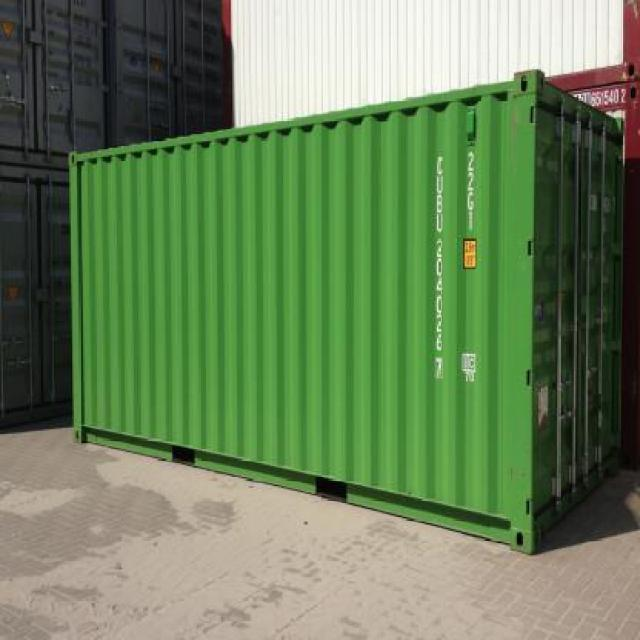ISO: (460, 150, 478, 241)
container_number: (427, 136, 444, 389)
